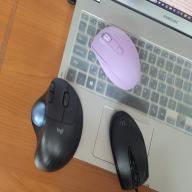mouse: (23, 64, 87, 172), (82, 9, 148, 99), (96, 110, 160, 186)
